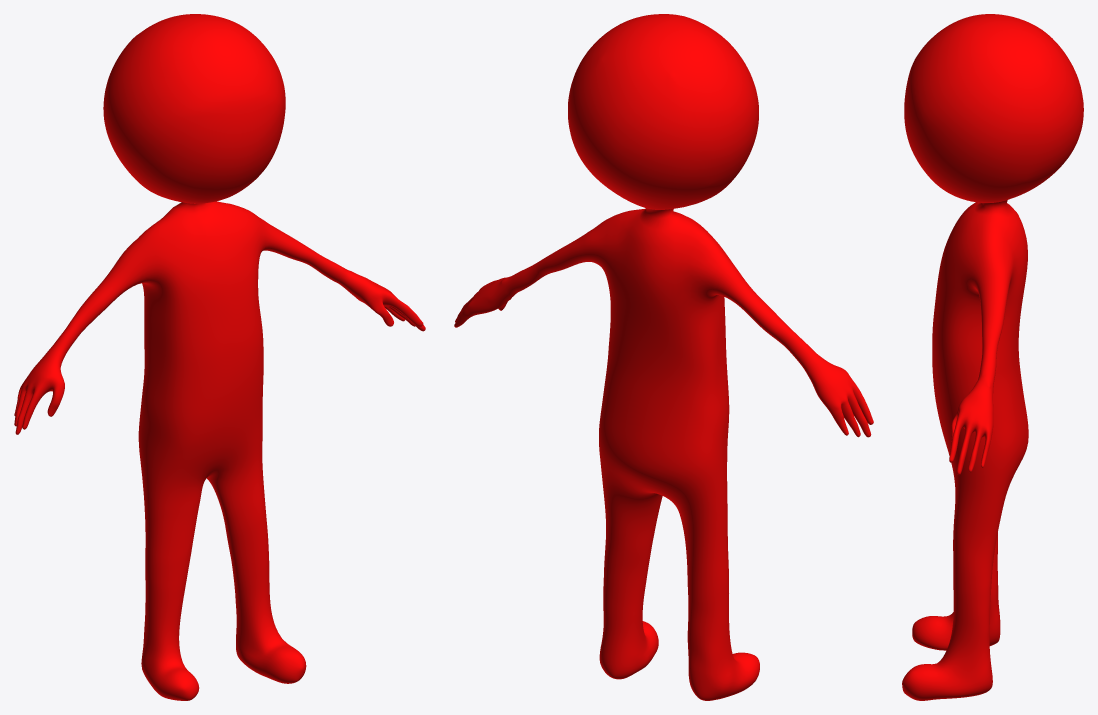
Rendered from character3.fbx.
3 renders of one model, left to right at view 1: azimuth 30°, elevation 25°; view 2: azimuth 150°, elevation 25°; view 3: azimuth 270°, elevation 25°, orthographic. The views are drawn at different scales.
Visible parts, largest first — view 1: Group1; view 2: Group1; view 3: Group1.
Boxes of the visible parts, bbox=[...] form: Group1: bbox=[14, 14, 425, 700]; Group1: bbox=[454, 14, 873, 700]; Group1: bbox=[902, 14, 1083, 700].
Size of the model in its own units: 58.66 by 90.06 by 22.89.
